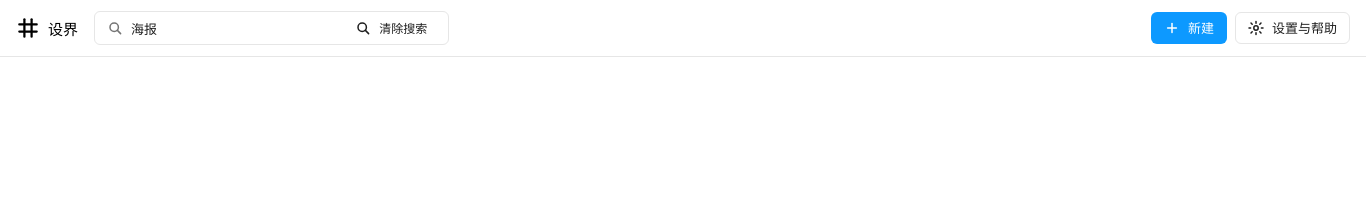
Test case: HomeTopbar · 全局搜索（B9） › Esc 关闭下拉（焦点路径，不依赖鼠标移开）
Click the search field named "搜索文件与技能资产" at (235, 28), box x1=131 y1=12 x2=338 y2=44
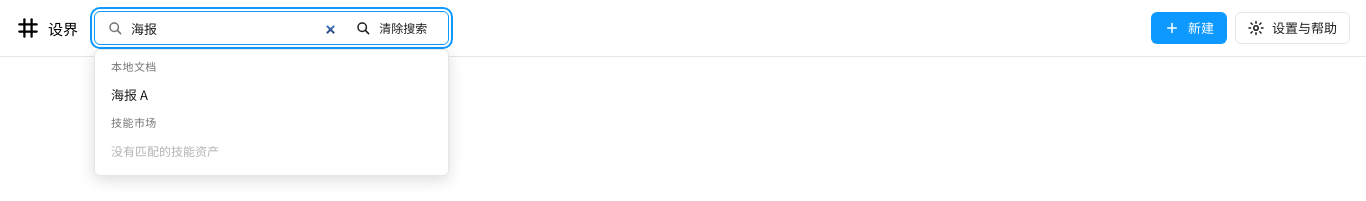
Expected: the menu is shown, x1=94 y1=49 x2=449 y2=176
Press Escape
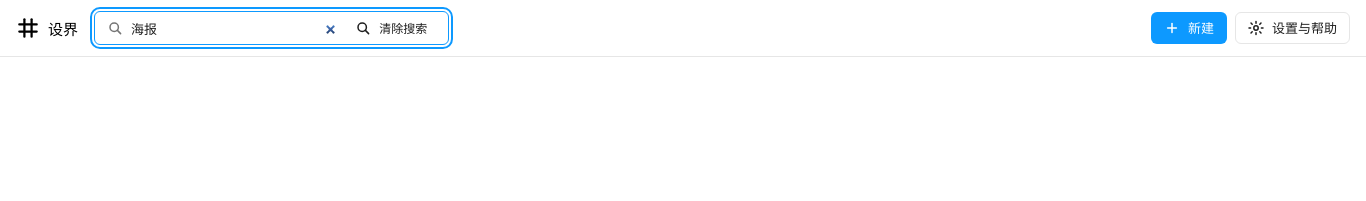
Expected: the menu is gone
